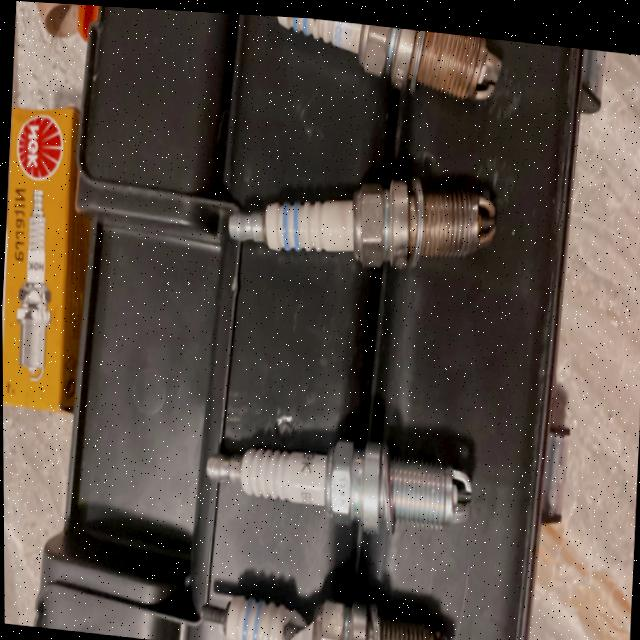damaged_spark-plug: (191, 571, 455, 640)
spark-plug: (217, 148, 510, 294), (195, 421, 478, 536)
